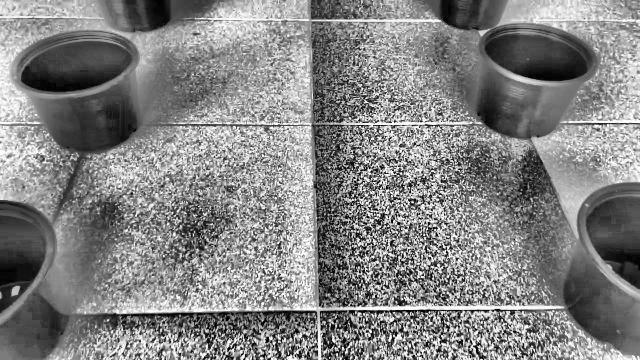pot: (7, 30, 142, 153), (474, 23, 600, 139)
